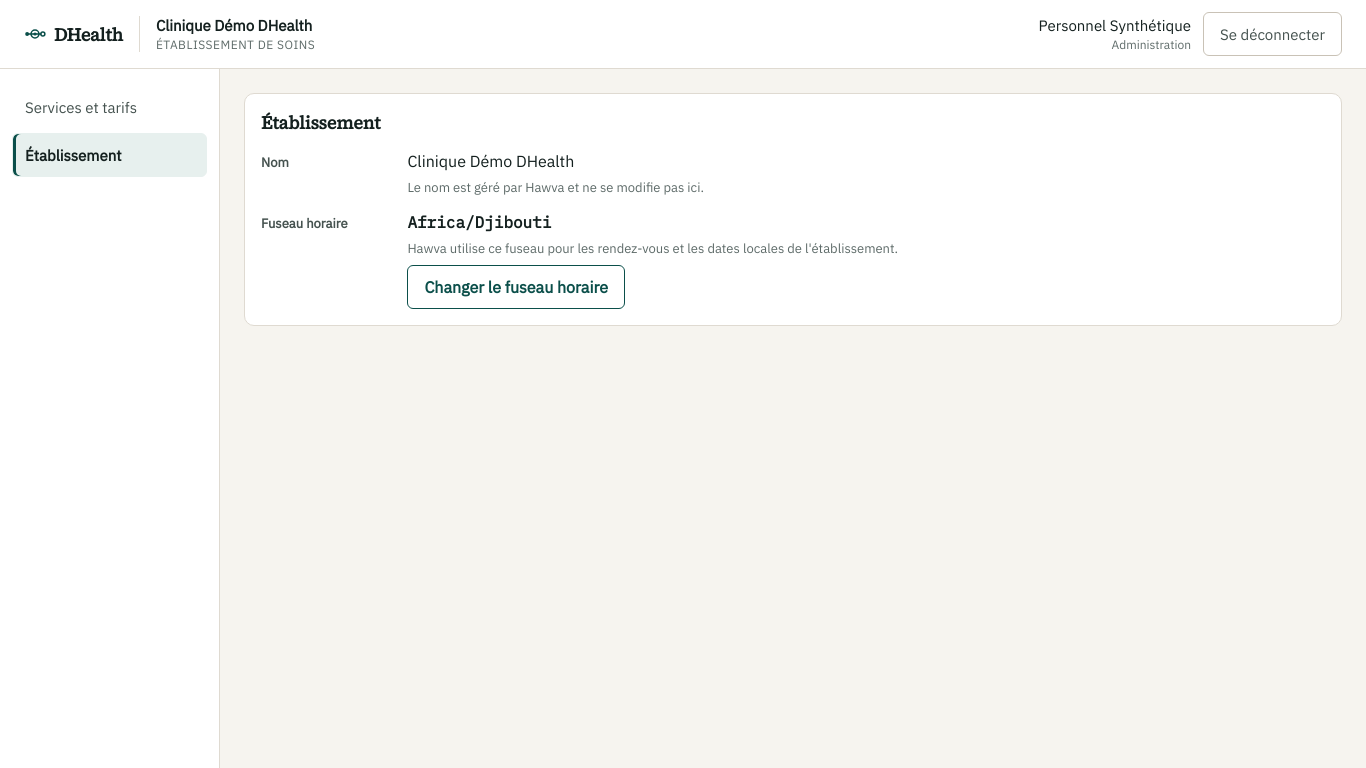
changing the timezone › surfaces the server refusal in the server own words
Expected: the heading "Établissement" is shown, [261,110,380,135]
Expected: the text "Africa/Djibouti" is shown, [407,212,551,232]
Click the button "Changer le fuseau horaire" at [516, 287], box [407,265,625,309]
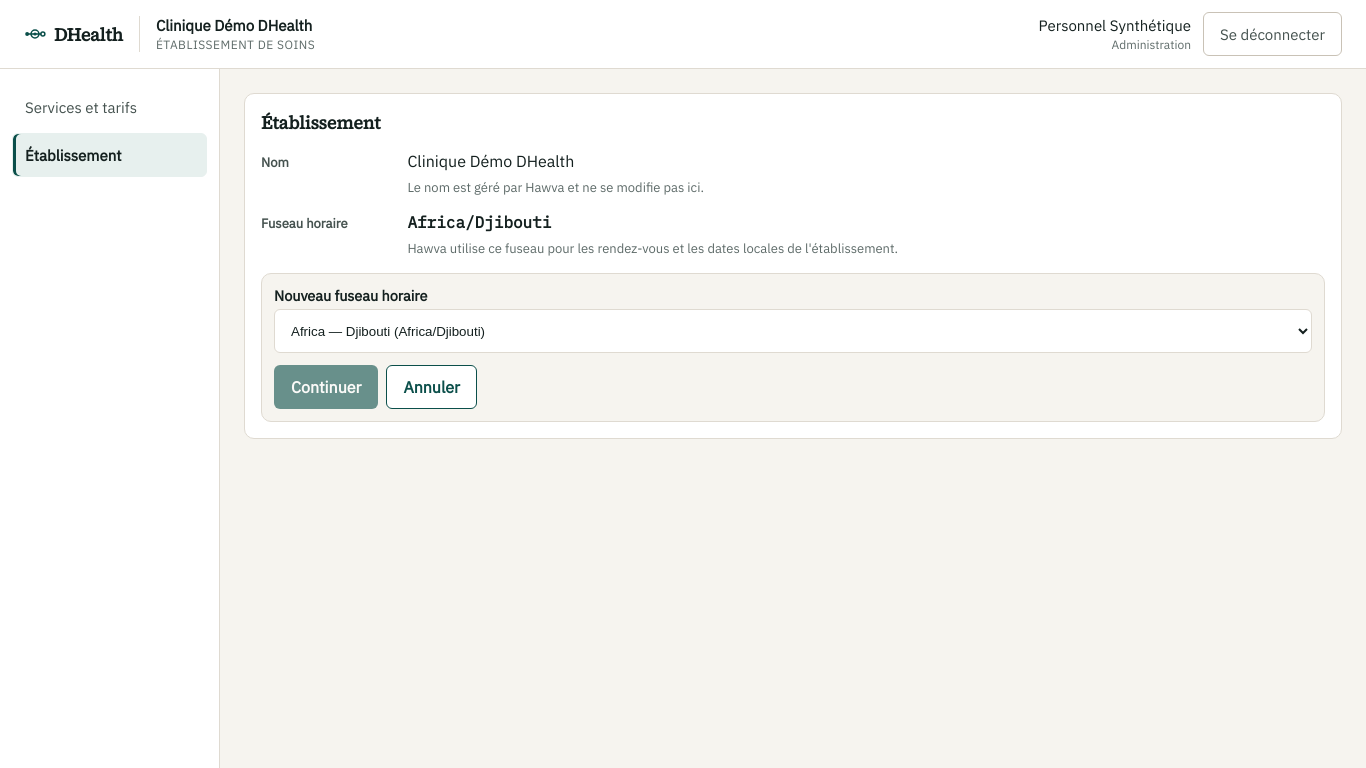
Select "America — Vancouver (America/Vancouver)" in the dropdown labelled "Nouveau fuseau horaire" at [793, 331], box [274,309,1312,353]
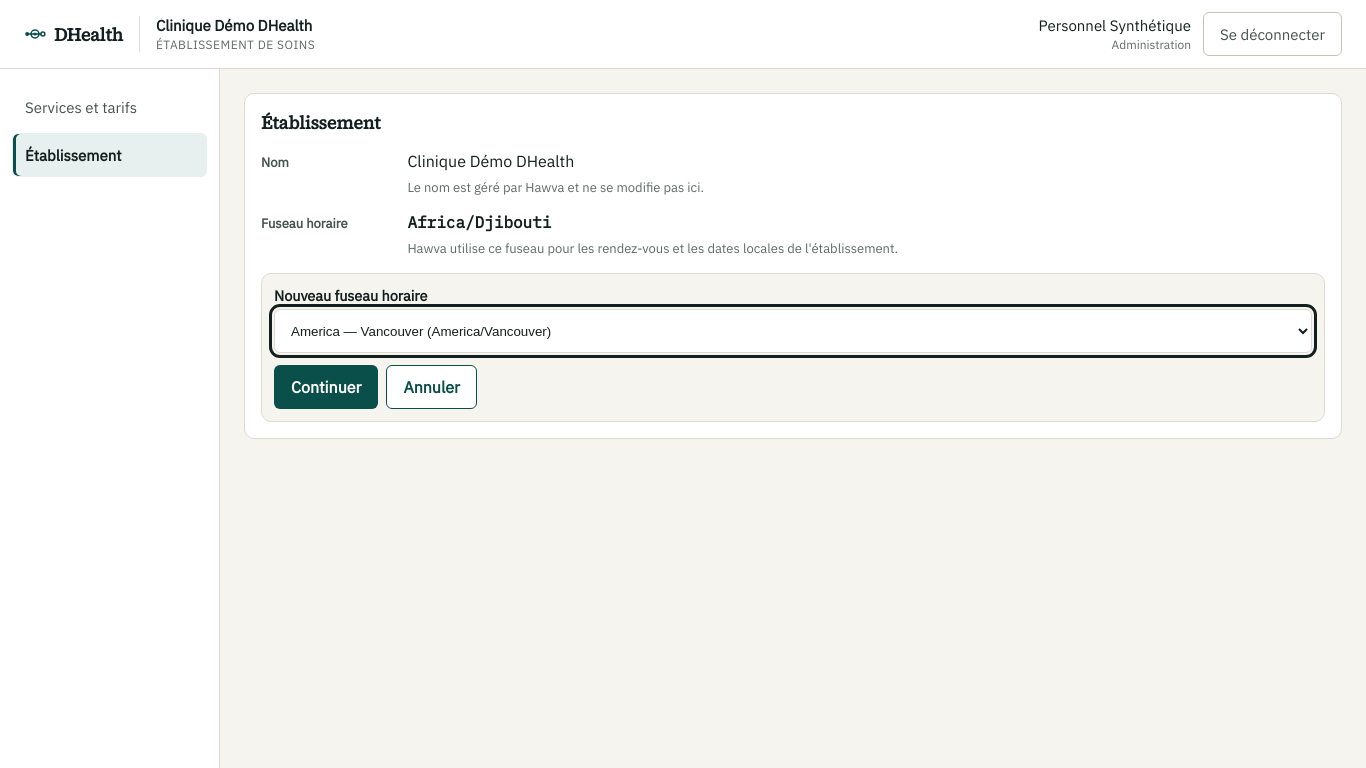
Click the button "Continuer" at [326, 387], box [274,365,378,409]
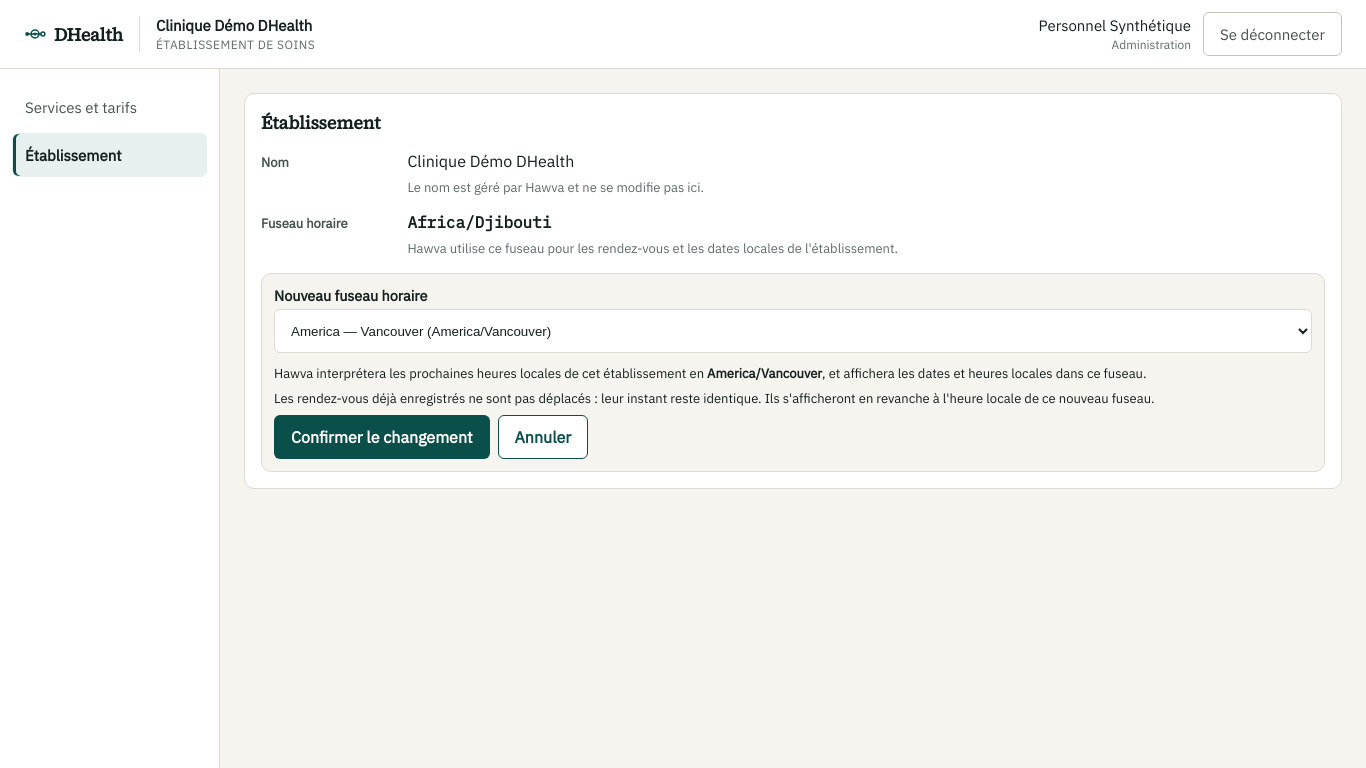
Click the button "Confirmer le changement" at [382, 437], box [274,415,490,459]
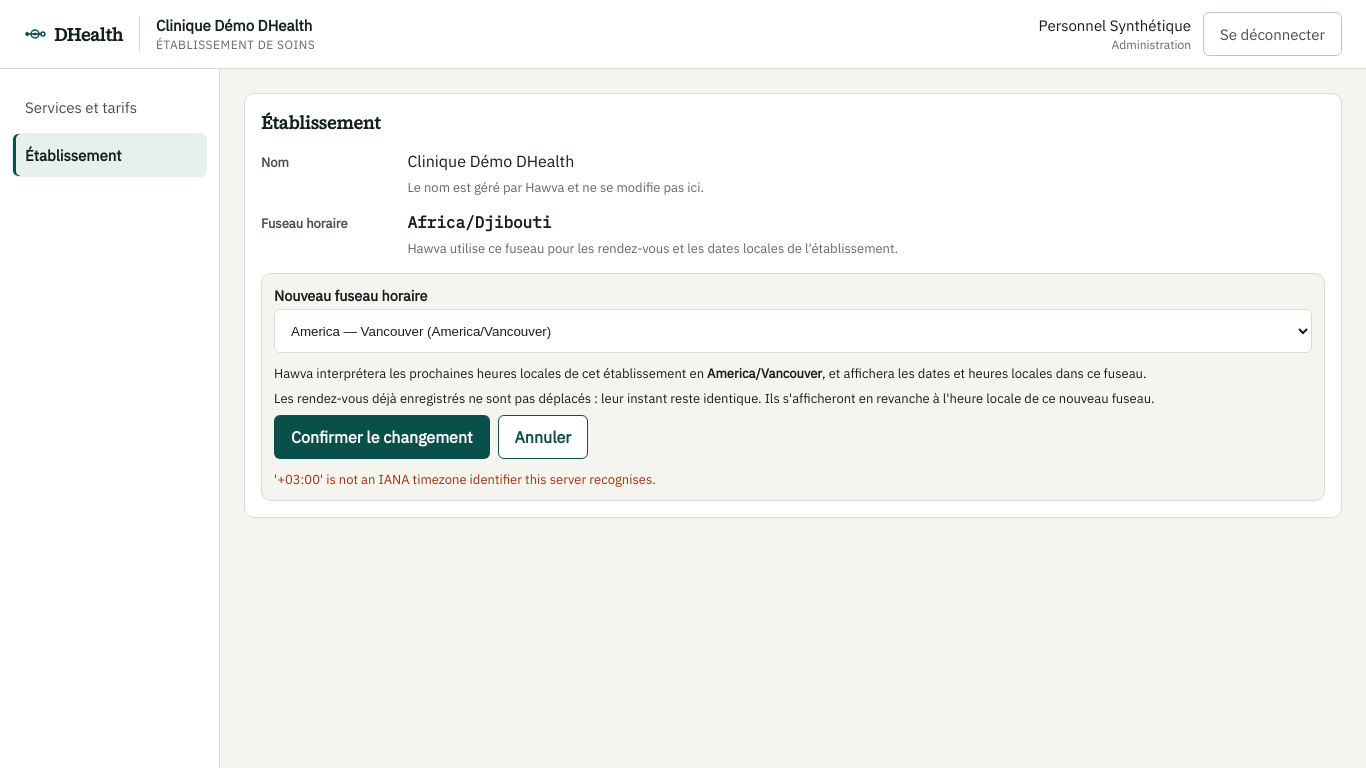
Result: the text "is not an IANA timezone identifier" is shown at [274,471,656,488]
